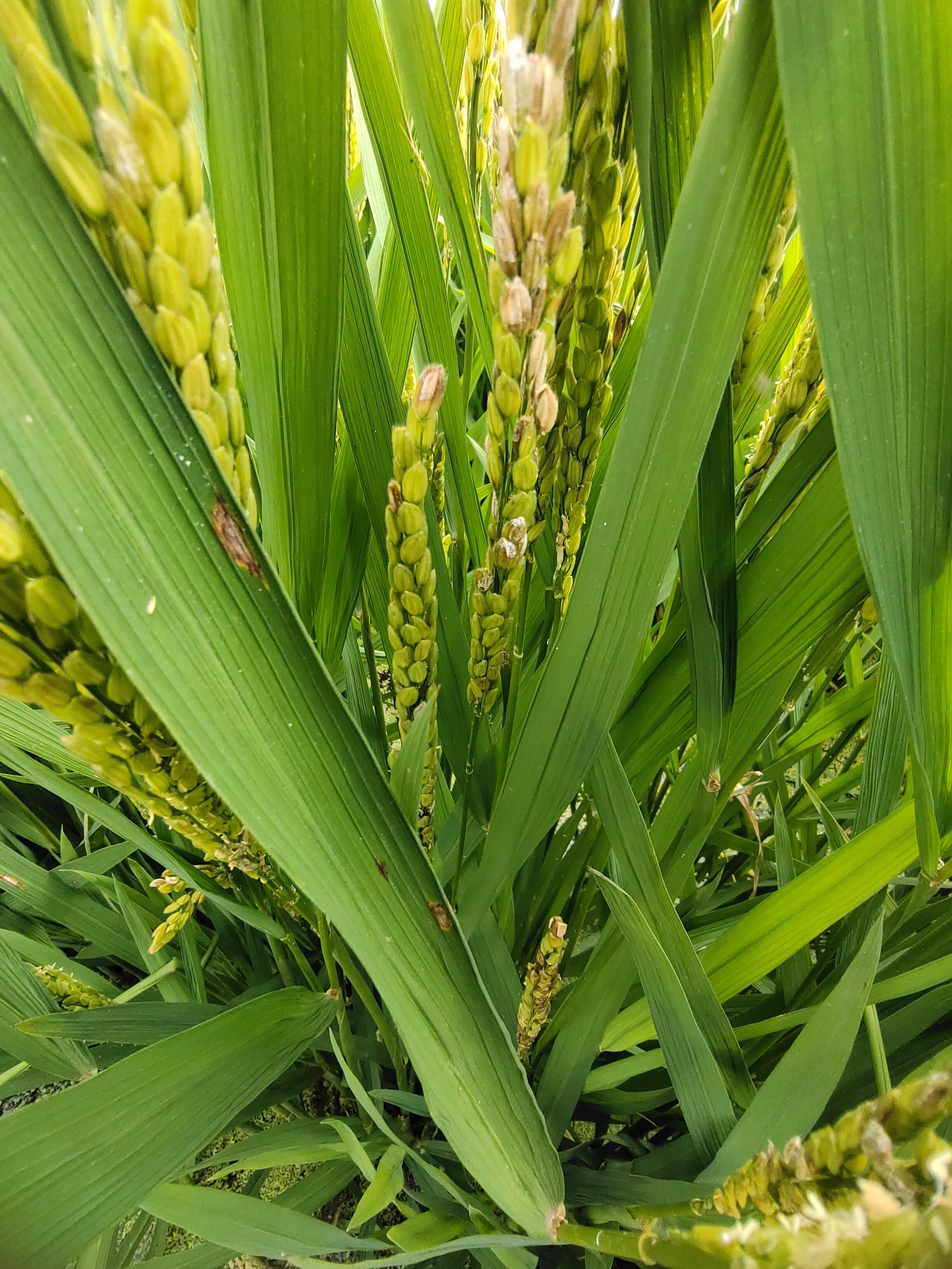LEAF: (0, 81, 569, 1236)
LEAF BLAST: (213, 496, 261, 576), (428, 902, 452, 932)
